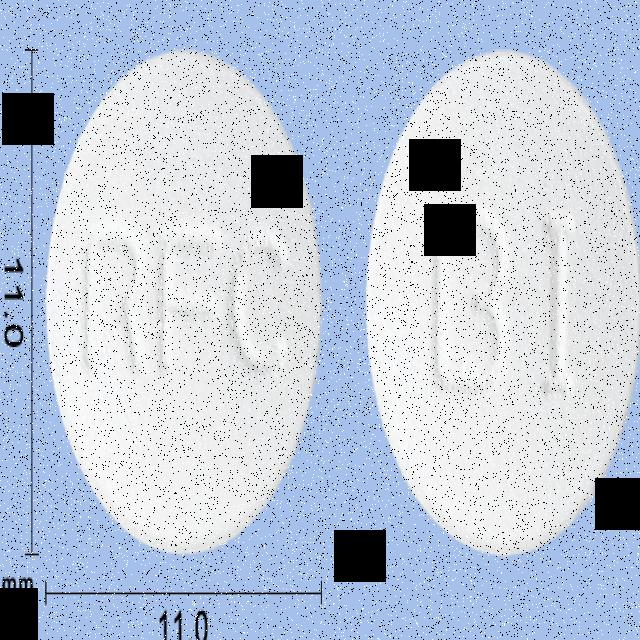Rofsin Tab: (45, 49, 321, 557), (366, 46, 640, 555)
